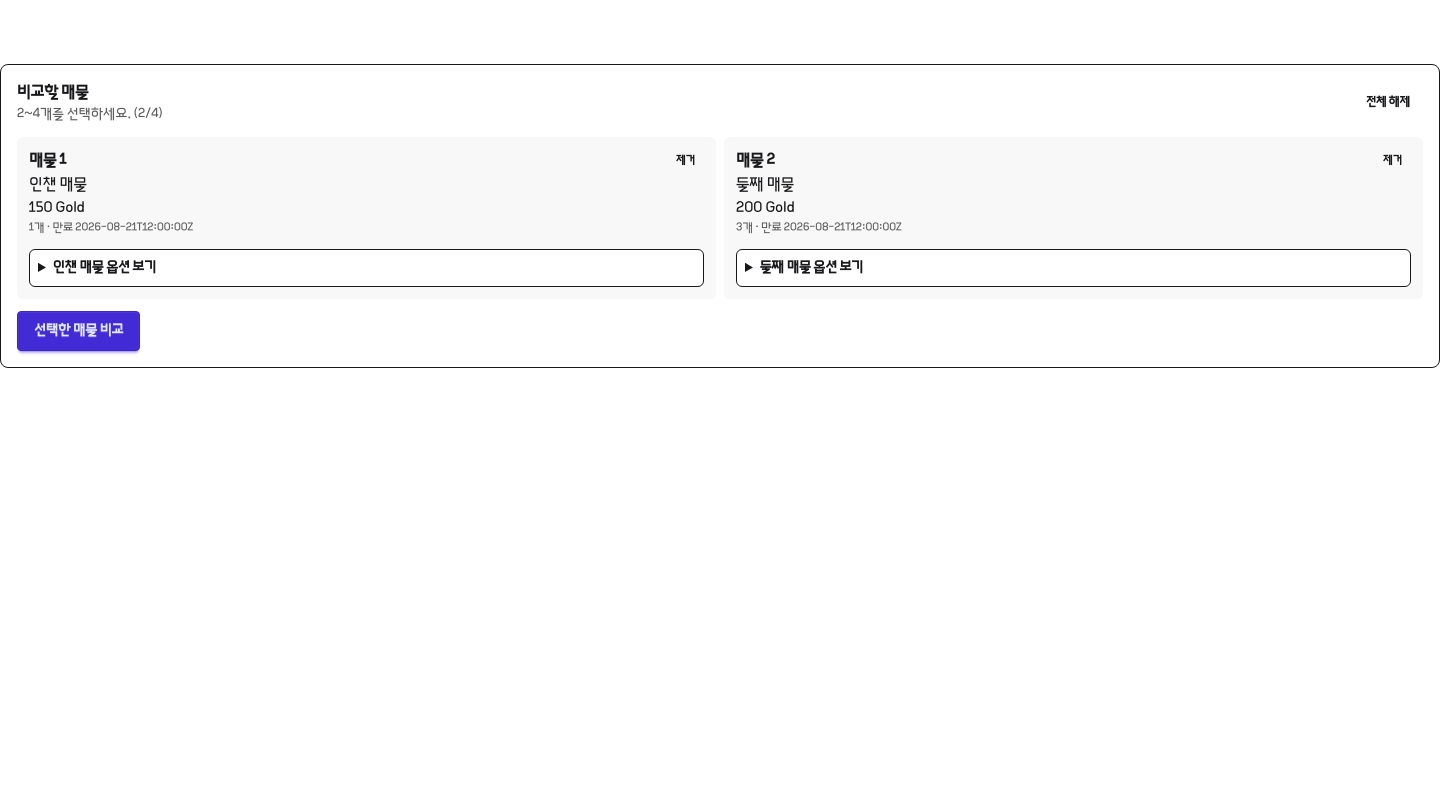
AuctionComparison › lazy-loads enchant option details in the selection panel and keeps comparison rows
This screenshot has width=1440, height=810.
Click the heading "인챈 매물 옵션 보기" at (104, 268), box [53,260,156,276]
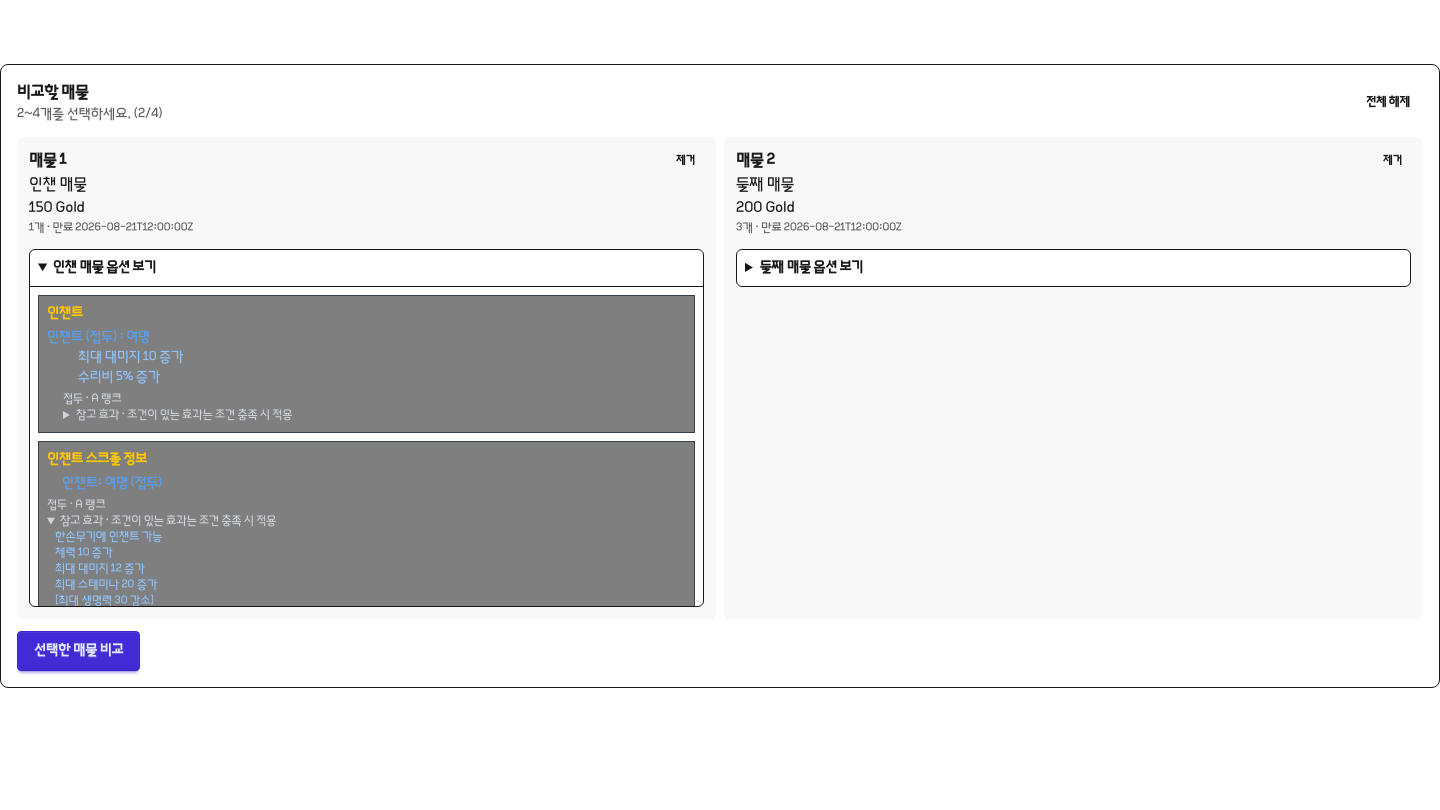
Expected: the text "인챈트 (접두) : 여명" is shown, [47,330,150,346]
Expected: the text "• 최대 대미지 10 증가" is shown, [63,350,183,366]
Click the button "선택한 매물 비교" at (79, 651), box [17,631,140,671]
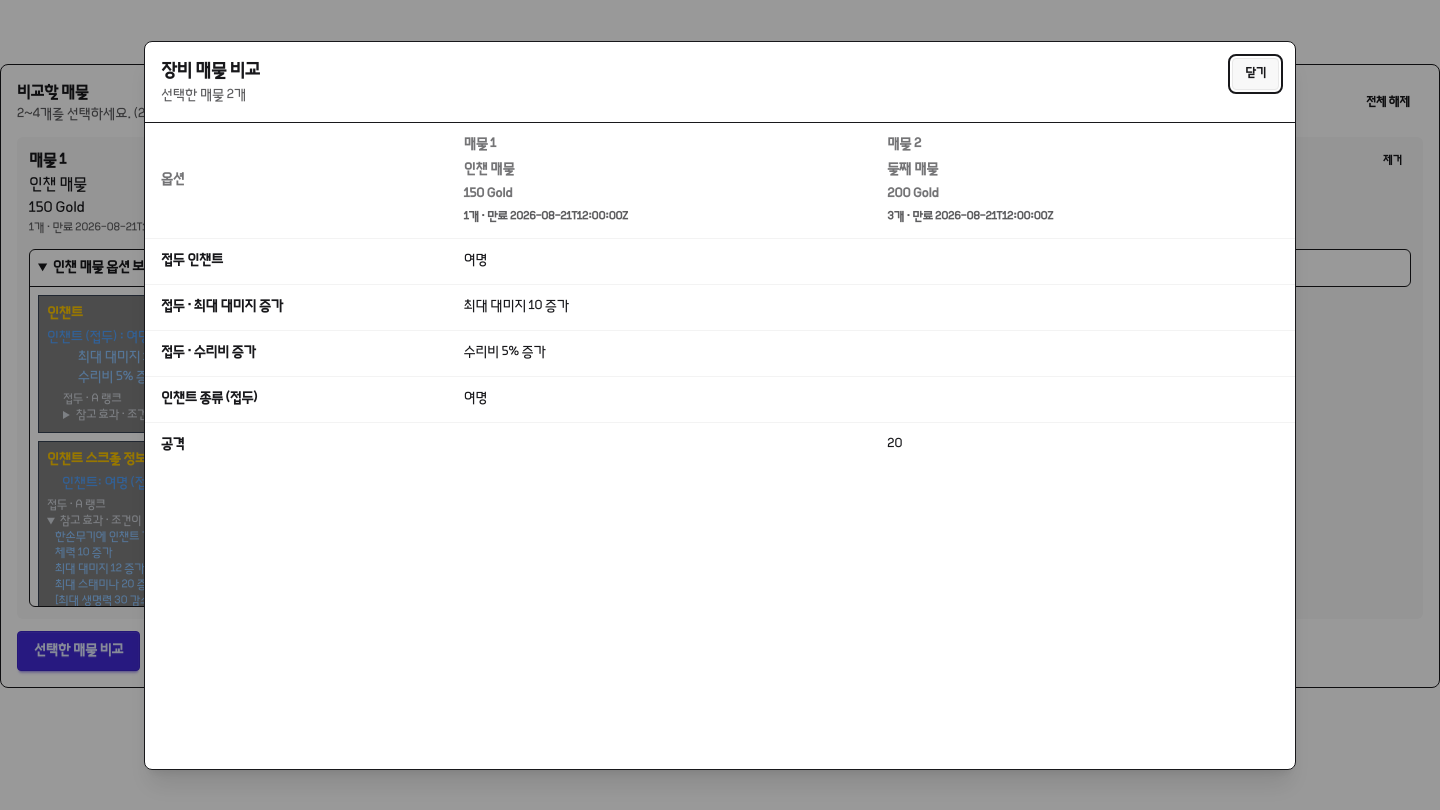
Expected: the row "접두 · 최대 대미지 증가 최대 대미지 10 증가 —" is shown, [145,284,1295,330]
